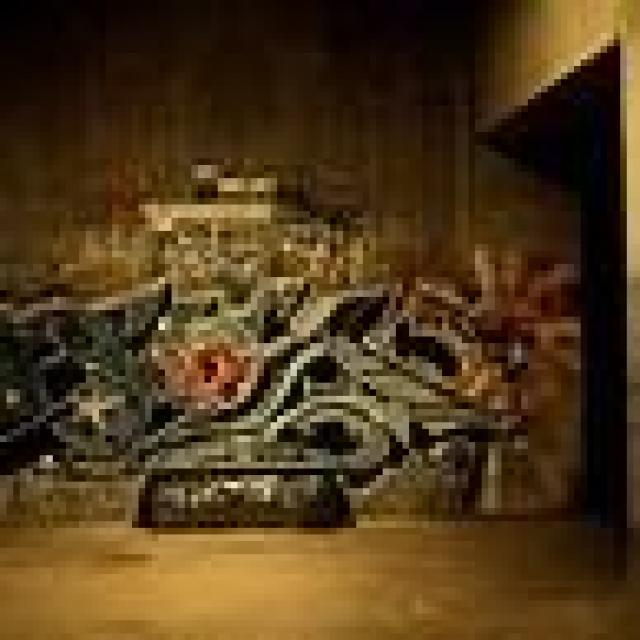nonspitting: (0, 263, 534, 488)
